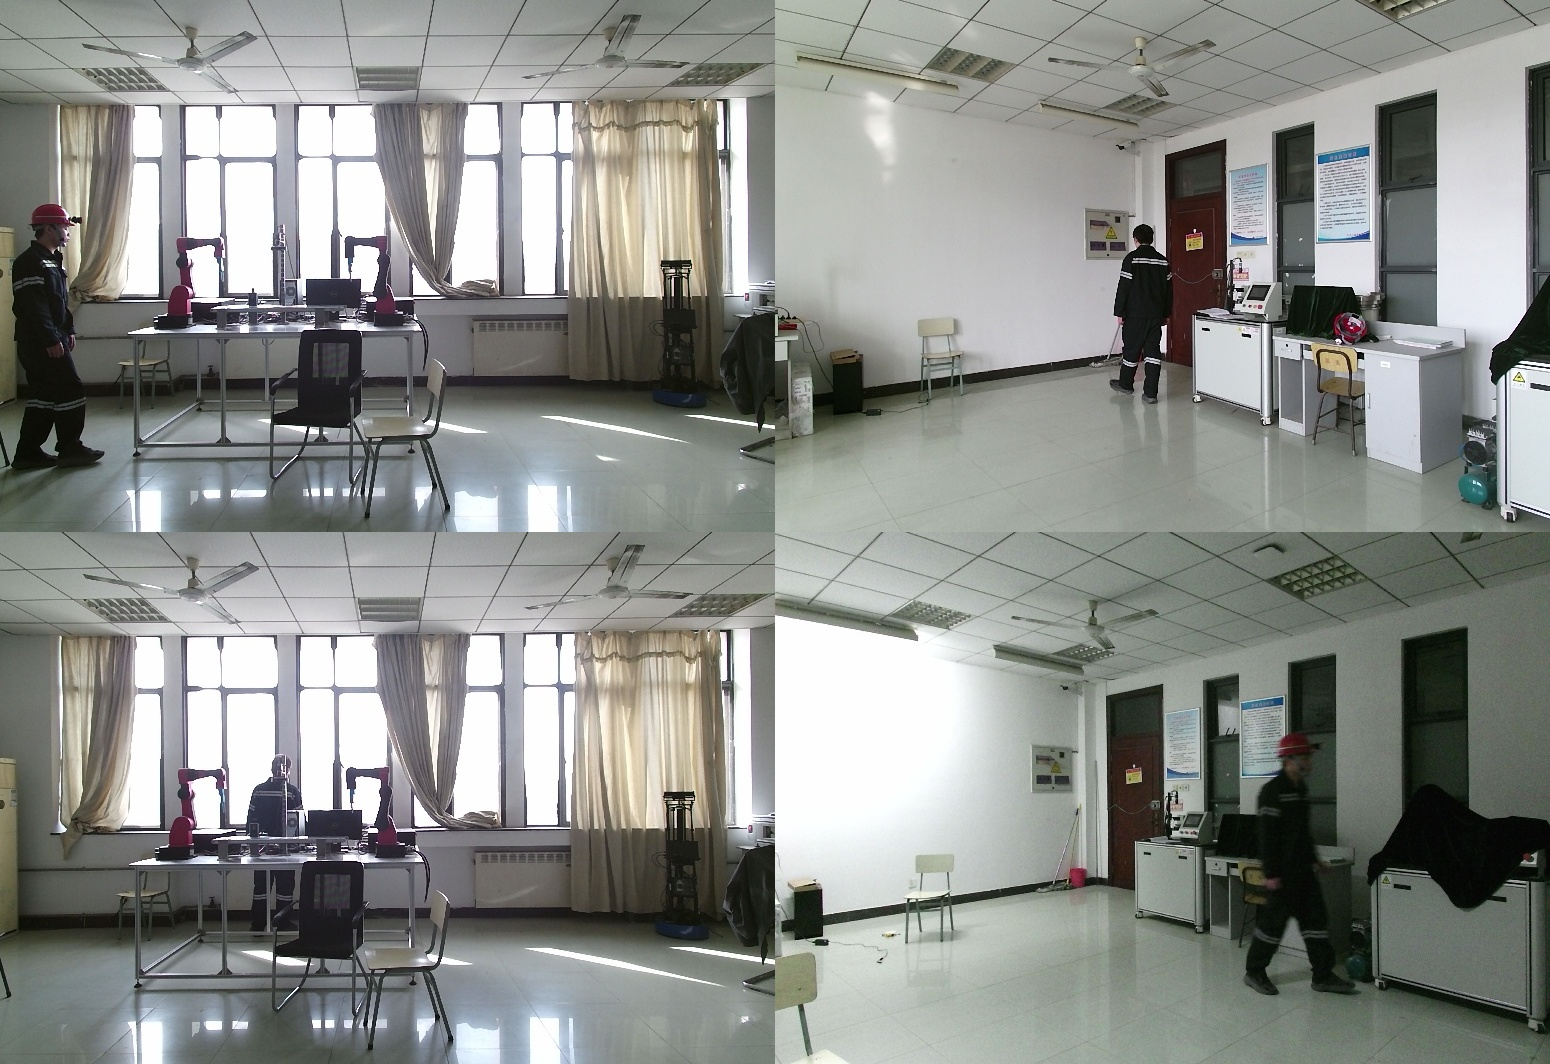person: (1239, 734, 1361, 995), (7, 204, 114, 468), (247, 756, 314, 948), (1111, 226, 1179, 410)
